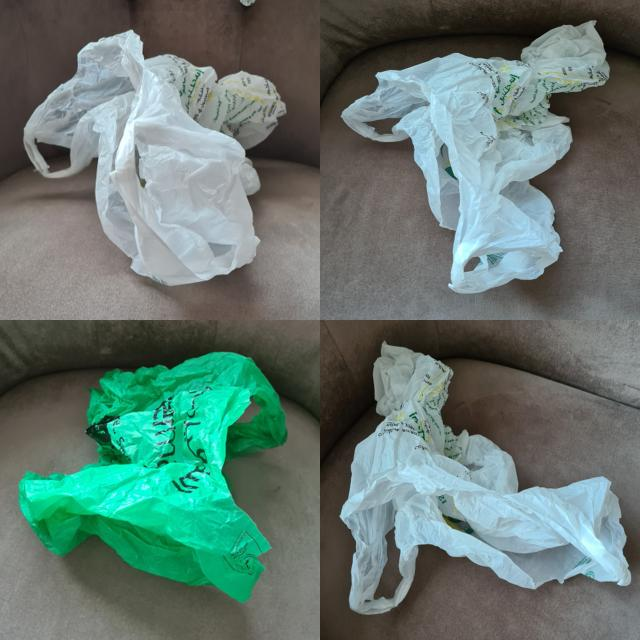Single-layer Plastic: (341, 344, 630, 614), (341, 21, 609, 294), (24, 30, 285, 285), (19, 352, 286, 601)
